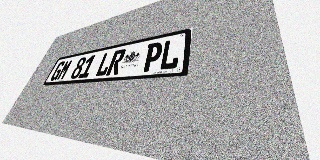1: (78, 54, 97, 78)
8: (69, 56, 88, 79)
G: (49, 61, 66, 81)
L: (158, 37, 182, 71), (94, 51, 115, 77)
M: (56, 59, 74, 80)
P: (141, 41, 164, 72)
R: (106, 49, 127, 76)
